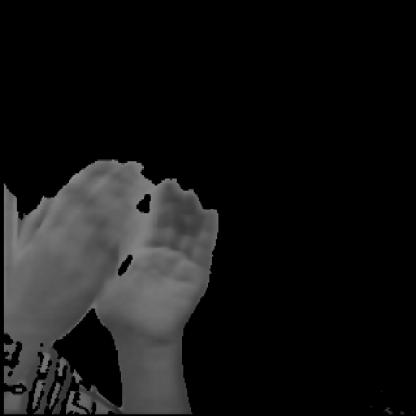clap: (13, 146, 224, 369)
